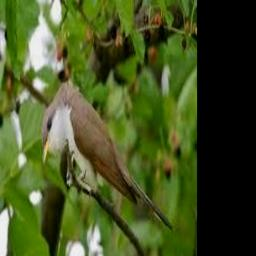Cuckoo: (43, 80, 173, 230)
